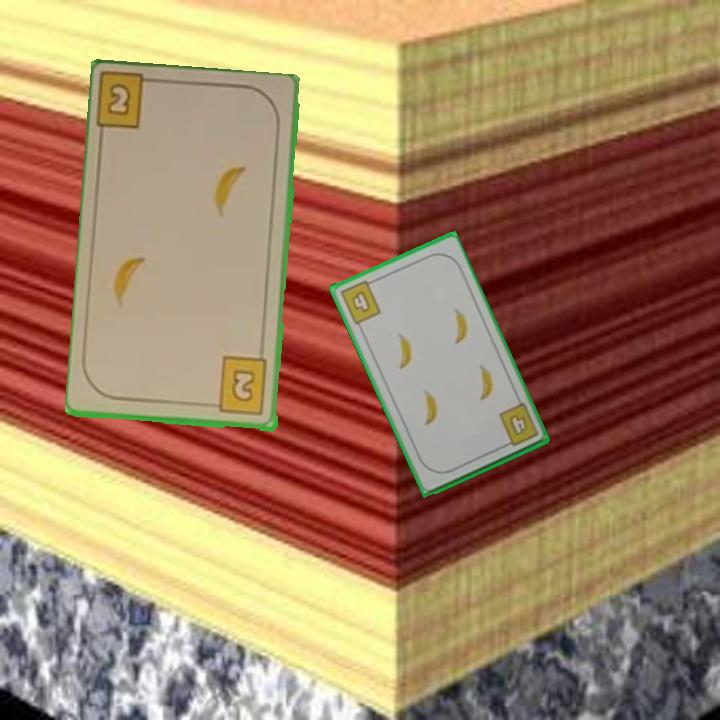2b: (95, 72, 164, 133), (206, 354, 271, 418)
4b: (336, 276, 384, 327), (495, 399, 541, 450)
